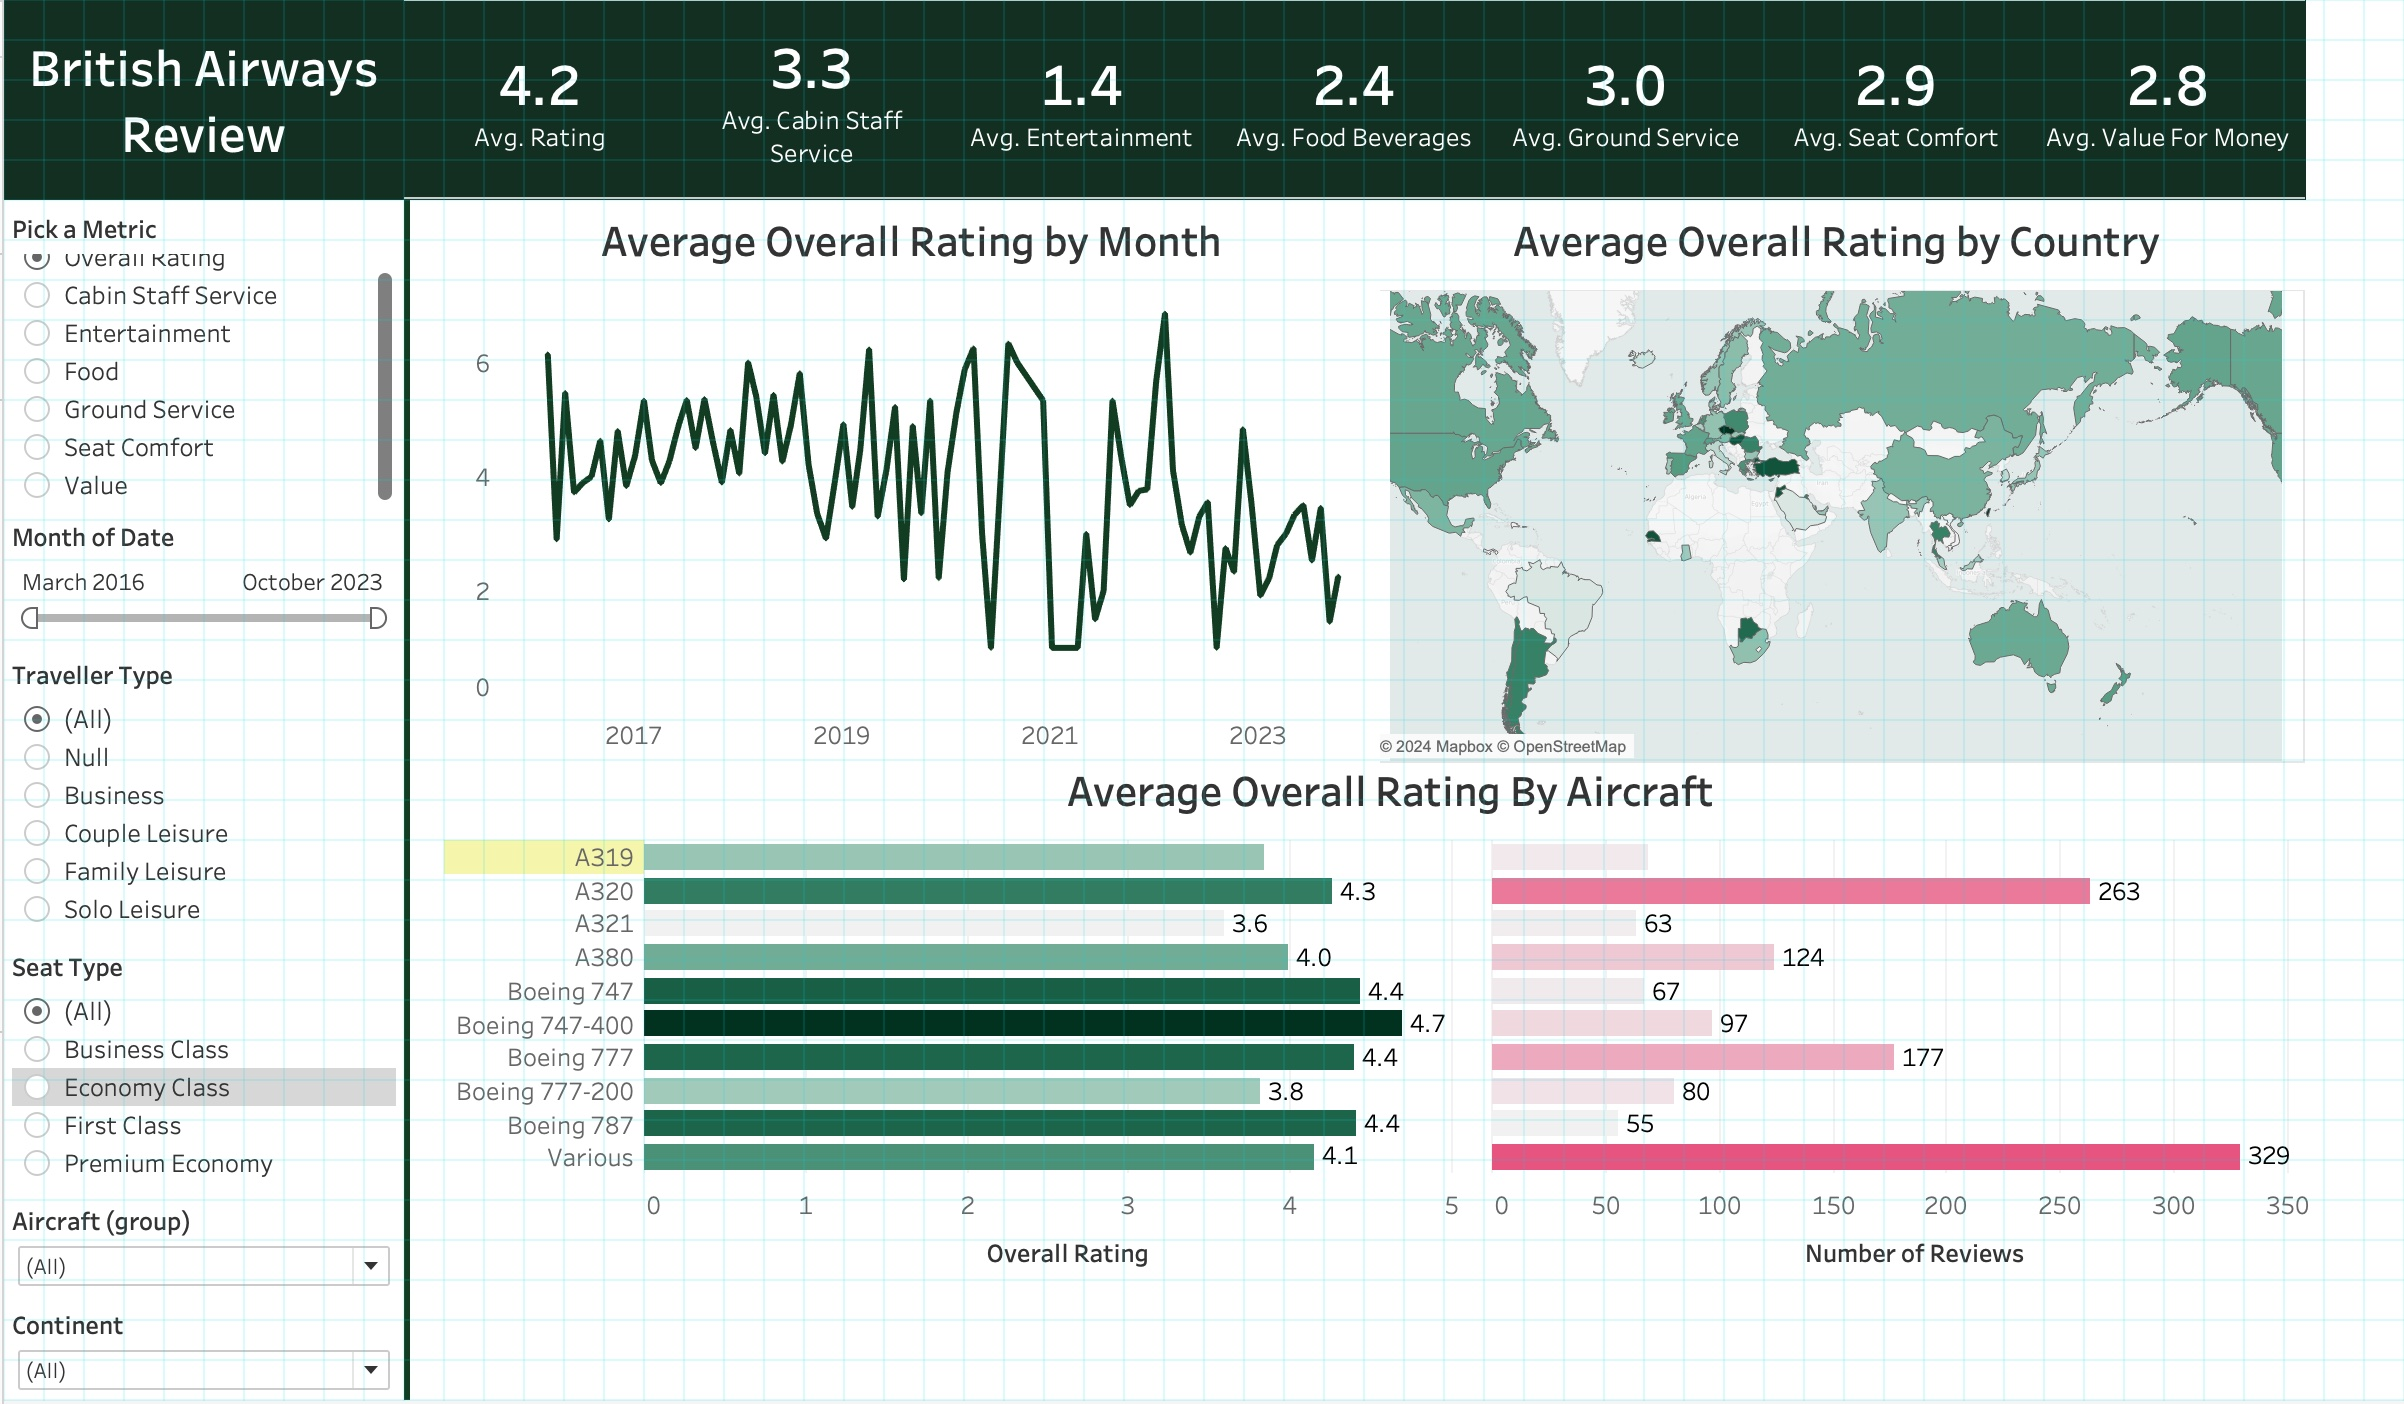

Layout of this report page (visuals, bound fields, positions):
{"tool":"tableau","page":{"name":"Dashboard 1","canvas":[1200,700],"ordinal":0},"visuals":[{"type":"text","box":[0,0,200,100]},{"type":"worksheet","title":"Summary","mark":"Automatic","box":[200,0,951,100]},{"type":"blank","box":[200,100,3,600]},{"type":"parameter","param":"[Parameters].[Parameter 1]","box":[0,102,200,154]},{"type":"worksheet","title":"Month","mark":"Automatic","rows":["Calculation_32369681190039552"],"cols":["date"],"box":[220,102,468,280]},{"type":"worksheet","title":"Maps","mark":"Automatic","box":[682,102,469,280]},{"type":"filter","title":"Maps","param":"[federated.0v4g18c1ho1q9p1a5208n0lwzene].[tmn:date:qk]","box":[0,256,200,69]},{"type":"filter","title":"Maps","param":"[federated.0v4g18c1ho1q9p1a5208n0lwzene].[none:traveller_type:nk]","box":[0,325,200,146]},{"type":"worksheet","title":"Aircraft","mark":"Automatic","cols":["Calculation_32369681190039552","ba_reviews.csv_AF93926E54DB41DC871C1074E83FD556"],"box":[220,377,947,265]},{"type":"filter","title":"Maps","param":"[federated.0v4g18c1ho1q9p1a5208n0lwzene].[none:seat_type:nk]","box":[0,471,200,127]},{"type":"filter","title":"Maps","param":"[federated.0v4g18c1ho1q9p1a5208n0lwzene].[Aircraft (group)]","box":[0,598,200,52]},{"type":"filter","title":"Maps","param":"[federated.0v4g18c1ho1q9p1a5208n0lwzene].[none:Continent:nk]","box":[0,650,200,52]}]}

Visuals, with their boxes in screenshot pixels (x1, y1, x2, y2), scaled from the page's 1200x700 canvas onto the 2404x1404 screenshot:
text: [0, 0, 401, 201]
"Summary" worksheet: [401, 0, 2306, 201]
blank: [401, 201, 407, 1403]
parameter: [0, 205, 401, 513]
"Month" worksheet: [441, 205, 1378, 766]
"Maps" worksheet: [1366, 205, 2306, 766]
"Maps" filter: [0, 513, 401, 652]
"Maps" filter: [0, 652, 401, 945]
"Aircraft" worksheet: [441, 756, 2338, 1288]
"Maps" filter: [0, 945, 401, 1199]
"Maps" filter: [0, 1199, 401, 1304]
"Maps" filter: [0, 1304, 401, 1403]
